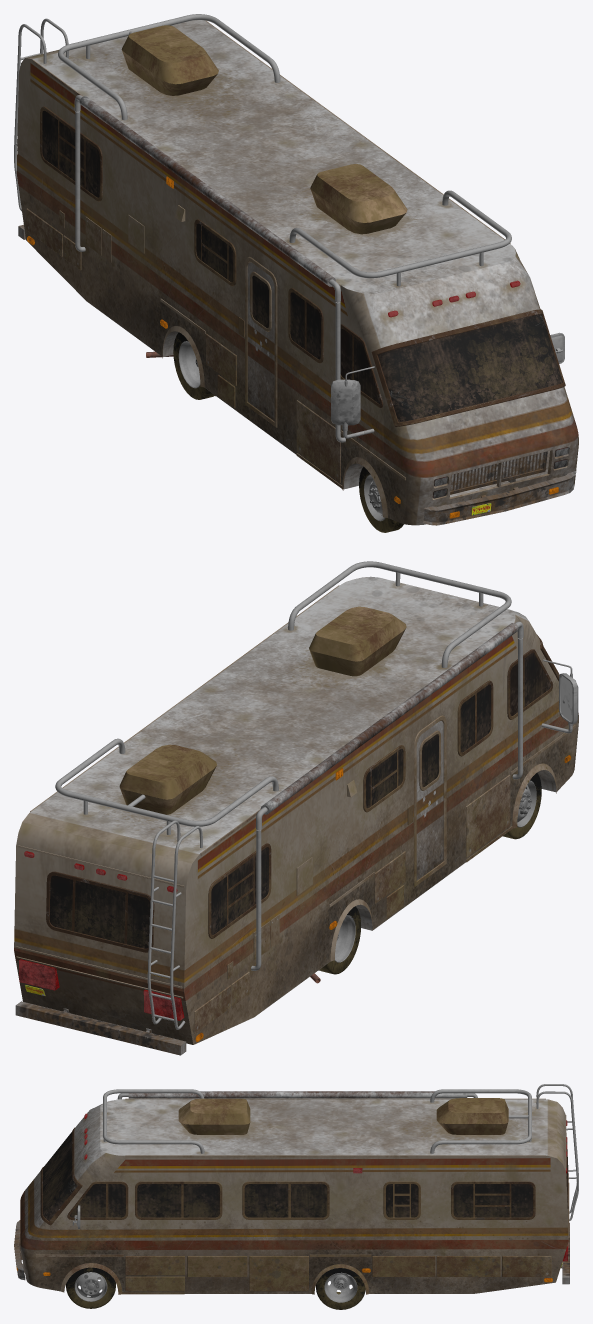
File: fleetwood_bounder_-_breaking_bad.glb
The picture shows the model from 3 angles, top to bottom: view 1: azimuth 30°, elevation 25°; view 2: azimuth 150°, elevation 25°; view 3: azimuth 270°, elevation 25°; orthographic projection. The views are drawn at different scales.
Visible parts, largest first — view 1: MainBody, Windows, SidePannelDetail, RoofBoxes, ChromePipes, Bumpers+Radiator, Tarp, FrontWheels, Mirrors, RearLights; view 2: MainBody, SidePannelDetail, Windows, RoofBoxes, ChromePipes, Tarp, Bumpers+Radiator, FrontWheels, RearLights, Mirrors; view 3: MainBody, SidePannelDetail, Windows, RoofBoxes, ChromePipes, FrontWheels, Tarp, Bumpers+Radiator, RearLights.
Part boxes in pixels (x1=…): MainBody: x1=16, y1=20, x2=578, y2=525; Windows: x1=42, y1=110, x2=562, y2=422; SidePannelDetail: x1=26, y1=20, x2=565, y2=517; RoofBoxes: x1=121, y1=25, x2=407, y2=234; ChromePipes: x1=14, y1=14, x2=511, y2=442; Bumpers+Radiator: x1=18, y1=224, x2=576, y2=525; Tarp: x1=79, y1=96, x2=335, y2=286; FrontWheels: x1=173, y1=332, x2=403, y2=532; Mirrors: x1=331, y1=332, x2=564, y2=438; RearLights: x1=27, y1=176, x2=568, y2=518; MainBody: x1=14, y1=576, x2=578, y2=1044; SidePannelDetail: x1=15, y1=585, x2=575, y2=1033; Windows: x1=49, y1=653, x2=550, y2=948; RoofBoxes: x1=119, y1=606, x2=406, y2=814; ChromePipes: x1=55, y1=561, x2=523, y2=1029; Tarp: x1=260, y1=623, x2=518, y2=814; Bumpers+Radiator: x1=15, y1=1001, x2=186, y2=1055; FrontWheels: x1=318, y1=773, x2=541, y2=974; RearLights: x1=19, y1=755, x2=571, y2=1041; Mirrors: x1=541, y1=659, x2=578, y2=733; MainBody: x1=20, y1=1099, x2=568, y2=1293; SidePannelDetail: x1=36, y1=1098, x2=569, y2=1294; Windows: x1=42, y1=1132, x2=567, y2=1220; RoofBoxes: x1=178, y1=1098, x2=508, y2=1134; ChromePipes: x1=103, y1=1084, x2=578, y2=1220; FrontWheels: x1=66, y1=1267, x2=365, y2=1309; Tarp: x1=128, y1=1091, x2=467, y2=1098; Bumpers+Radiator: x1=14, y1=1220, x2=569, y2=1284; RearLights: x1=16, y1=1113, x2=568, y2=1282.
Bounding box in the file's own units: 2.39 × 2.62 × 7.47.
13 materials, 13 textured.
